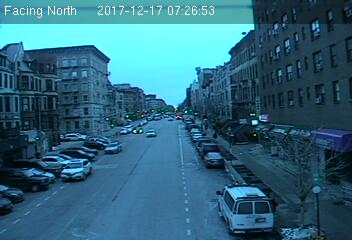car: (60, 158, 92, 181), (102, 140, 122, 155), (204, 151, 223, 165), (145, 129, 158, 139)
police: (215, 182, 276, 232)
